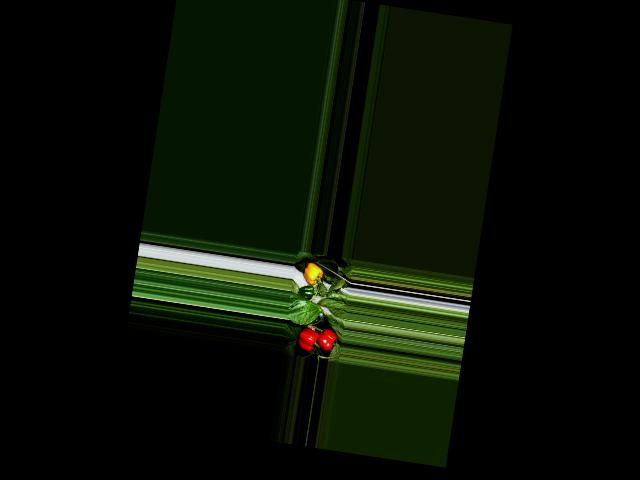bell_pepper: (300, 259, 325, 287)
